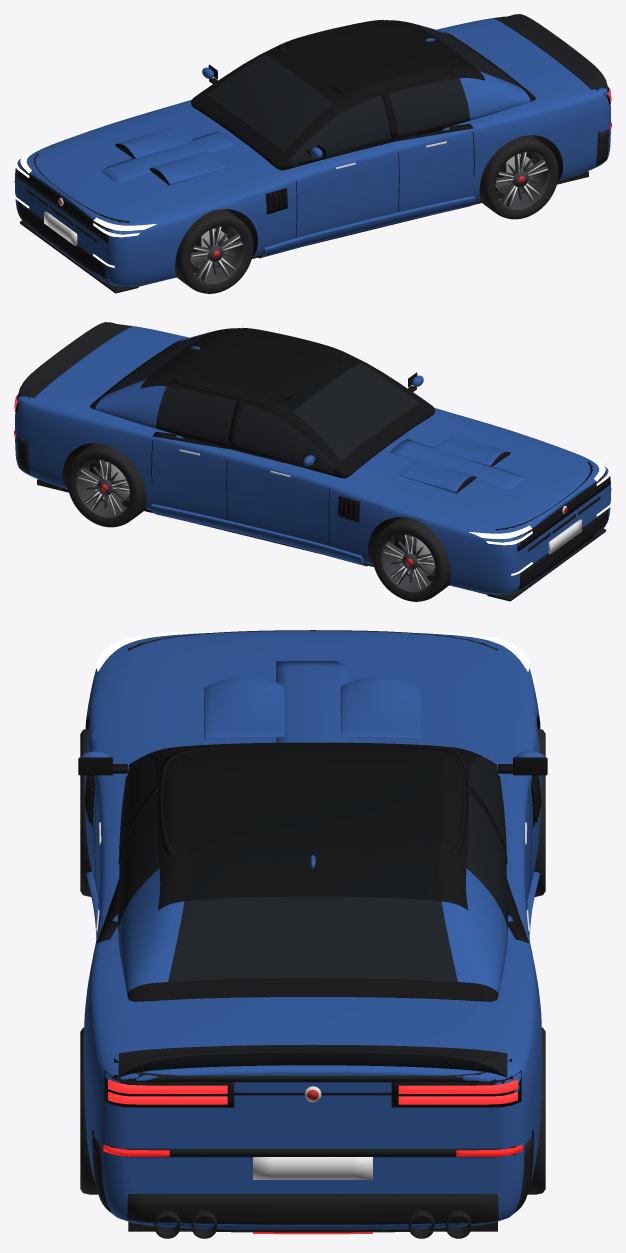
File: sedan.glb
3 views of the same model, one above another, from view 1: azimuth 30°, elevation 25°; view 2: azimuth 150°, elevation 25°; view 3: azimuth 270°, elevation 25° (orthographic). The views are drawn at different scales.
Visible parts, largest first — view 1: roof_glass, hood_panel, side_windows_left_glass, bumper_front_panel, door_front_left_panel, windshield_glass, fender_rear_left_panel, fender_front_left_panel, door_rear_left_panel, trunk_panel, wheel_rear_left_tire, wheel_front_left_tire (+22 smaller); view 2: roof_glass, hood_panel, side_windows_right_glass, bumper_front_panel, door_front_right_panel, windshield_glass, fender_rear_right_panel, fender_front_right_panel, door_rear_right_panel, trunk_panel, wheel_rear_right_tire, wheel_front_right_tire (+22 smaller); view 3: roof_glass, bumper_rear_panel, trunk_panel, hood_panel, rear_window_glass, side_windows_right_glass, side_windows_left_glass, diffuser.009, spoiler_carbon, fender_rear_right_panel, fender_rear_left_panel, hood_bulge (+25 smaller).
Boxes of the visible parts, x1,y1,x2,y2 form: roof_glass: (265, 21, 530, 120); hood_panel: (46, 105, 279, 216); side_windows_left_glass: (231, 59, 535, 170); bumper_front_panel: (14, 140, 173, 285); door_front_left_panel: (288, 142, 398, 237); windshield_glass: (206, 55, 332, 159); fender_rear_left_panel: (467, 86, 609, 200); fender_front_left_panel: (141, 169, 296, 277); door_rear_left_panel: (393, 122, 473, 212); trunk_panel: (448, 20, 587, 98); wheel_rear_left_tire: (479, 135, 558, 219); wheel_front_left_tire: (175, 209, 253, 293); roof_glass: (95, 329, 360, 428); hood_panel: (346, 413, 579, 524); side_windows_right_glass: (90, 367, 393, 478); bumper_front_panel: (452, 448, 611, 593); door_front_right_panel: (227, 450, 337, 545); windshield_glass: (293, 363, 419, 467); fender_rear_right_panel: (15, 394, 158, 508); fender_front_right_panel: (329, 477, 484, 585); door_rear_right_panel: (152, 430, 232, 520); trunk_panel: (38, 328, 177, 406); wheel_rear_right_tire: (67, 443, 146, 527); wheel_front_right_tire: (372, 517, 450, 601); roof_glass: (118, 742, 507, 994); bumper_rear_panel: (85, 1054, 540, 1228); trunk_panel: (132, 997, 493, 1108); hood_panel: (132, 633, 493, 761); rear_window_glass: (168, 896, 457, 981); side_windows_right_glass: (313, 747, 507, 1001); side_windows_left_glass: (118, 747, 312, 1001); diffuser.009: (127, 1194, 498, 1232); spoiler_carbon: (118, 1044, 507, 1077); fender_rear_right_panel: (493, 937, 541, 1140); fender_rear_left_panel: (84, 937, 132, 1136); hood_bulge: (276, 661, 349, 742).
Size of the model in its own units: 5.09 by 1.44 by 2.03.
